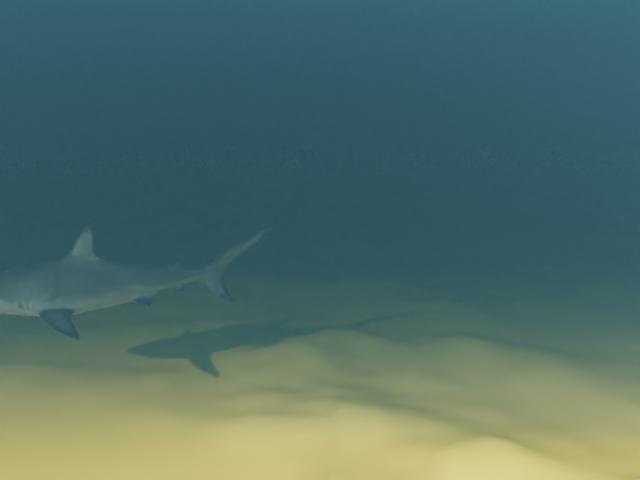Carribean Shark.001: (0, 224, 274, 339)
